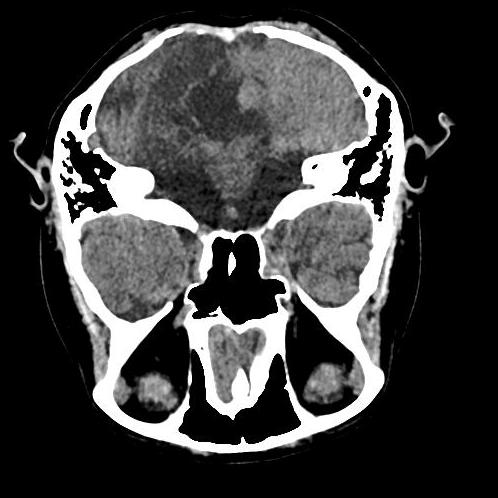Cancer: (164, 74, 276, 149)
